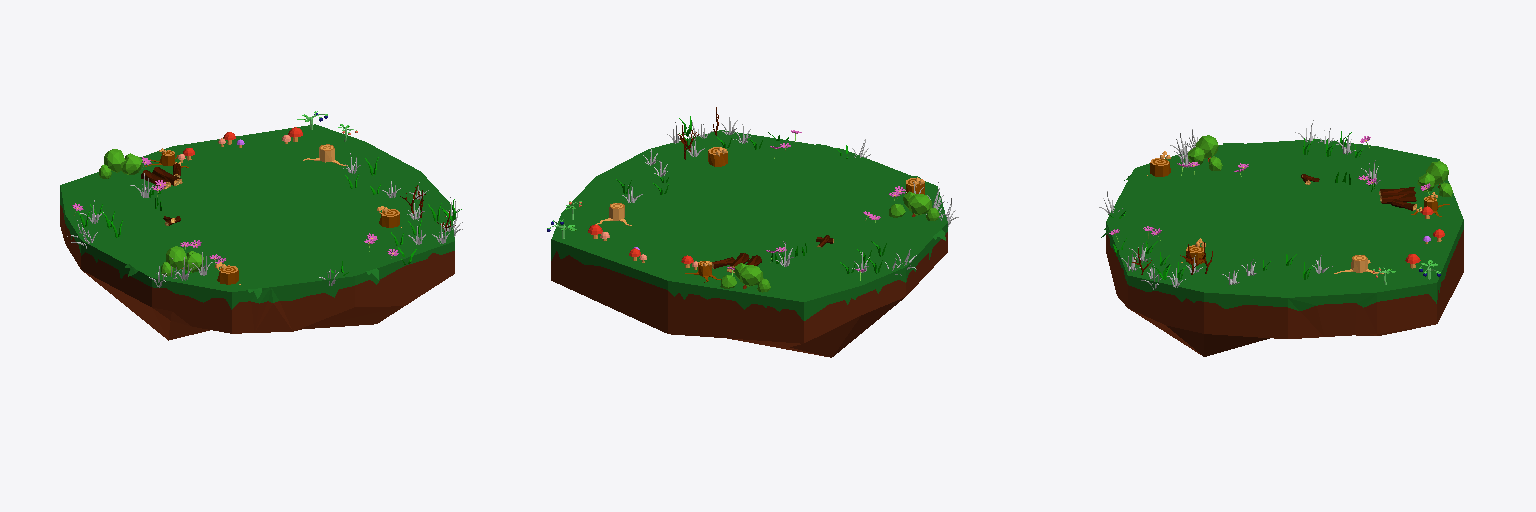
The picture shows the model from 3 angles: view 1: azimuth 30°, elevation 25°; view 2: azimuth 150°, elevation 25°; view 3: azimuth 270°, elevation 25°; orthographic projection.
Visible parts, largest first — view 1: Plane001, ���ڧݧڧߧէ�001, ���ڧݧڧߧէ�; view 2: Plane001, ���ڧݧڧߧէ�001, ���ڧݧڧߧէ�; view 3: Plane001, ���ڧݧڧߧէ�, ���ڧݧڧߧէ�001.
Boxes of the visible parts, x1,y1,x2,y2 form: Plane001: [60, 124, 454, 340]; ���ڧݧڧߧէ�001: [99, 149, 142, 178]; ���ڧݧڧߧէ�: [161, 246, 203, 275]; Plane001: [551, 130, 947, 357]; ���ڧݧڧߧէ�001: [720, 263, 770, 292]; ���ڧݧڧߧէ�: [889, 191, 939, 220]; Plane001: [1106, 139, 1463, 356]; ���ڧݧڧߧէ�: [1188, 135, 1222, 170]; ���ڧݧڧߧէ�001: [1417, 161, 1452, 196].
Size of the model in its own units: 1018 by 430 by 960.
Materials: 7 (1 with a texture image).